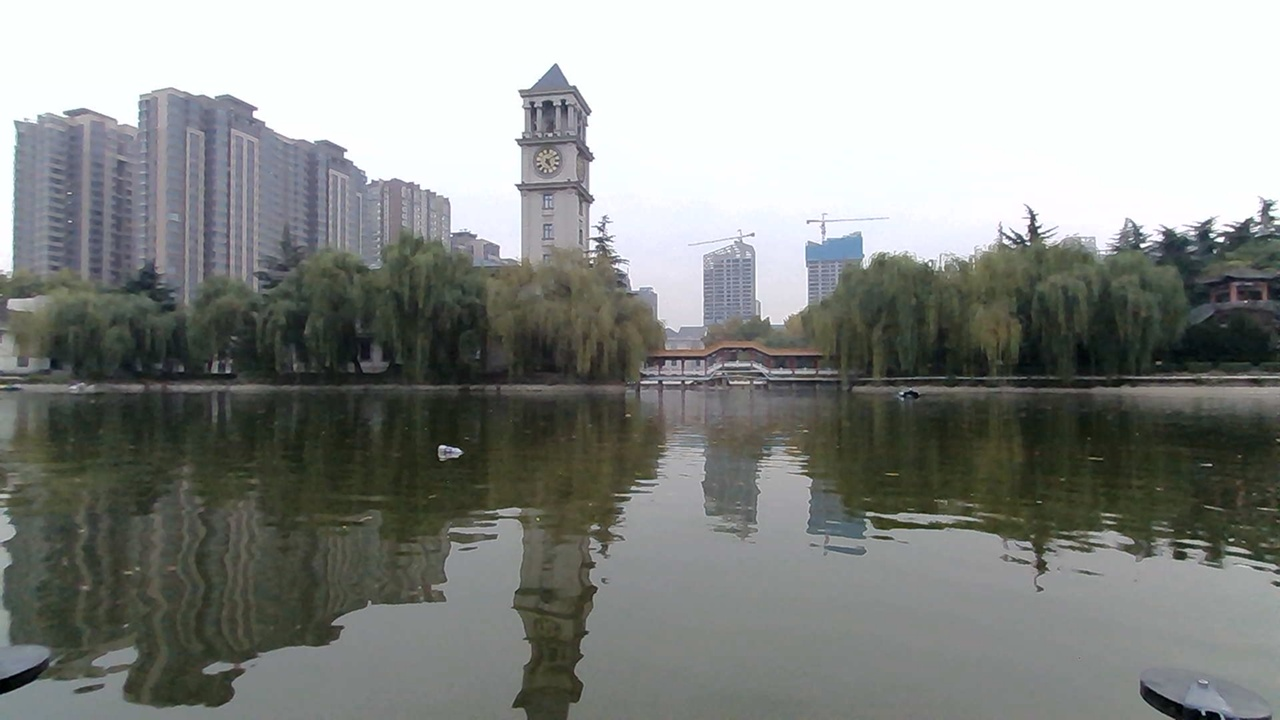bottle: (432, 432, 484, 470)
